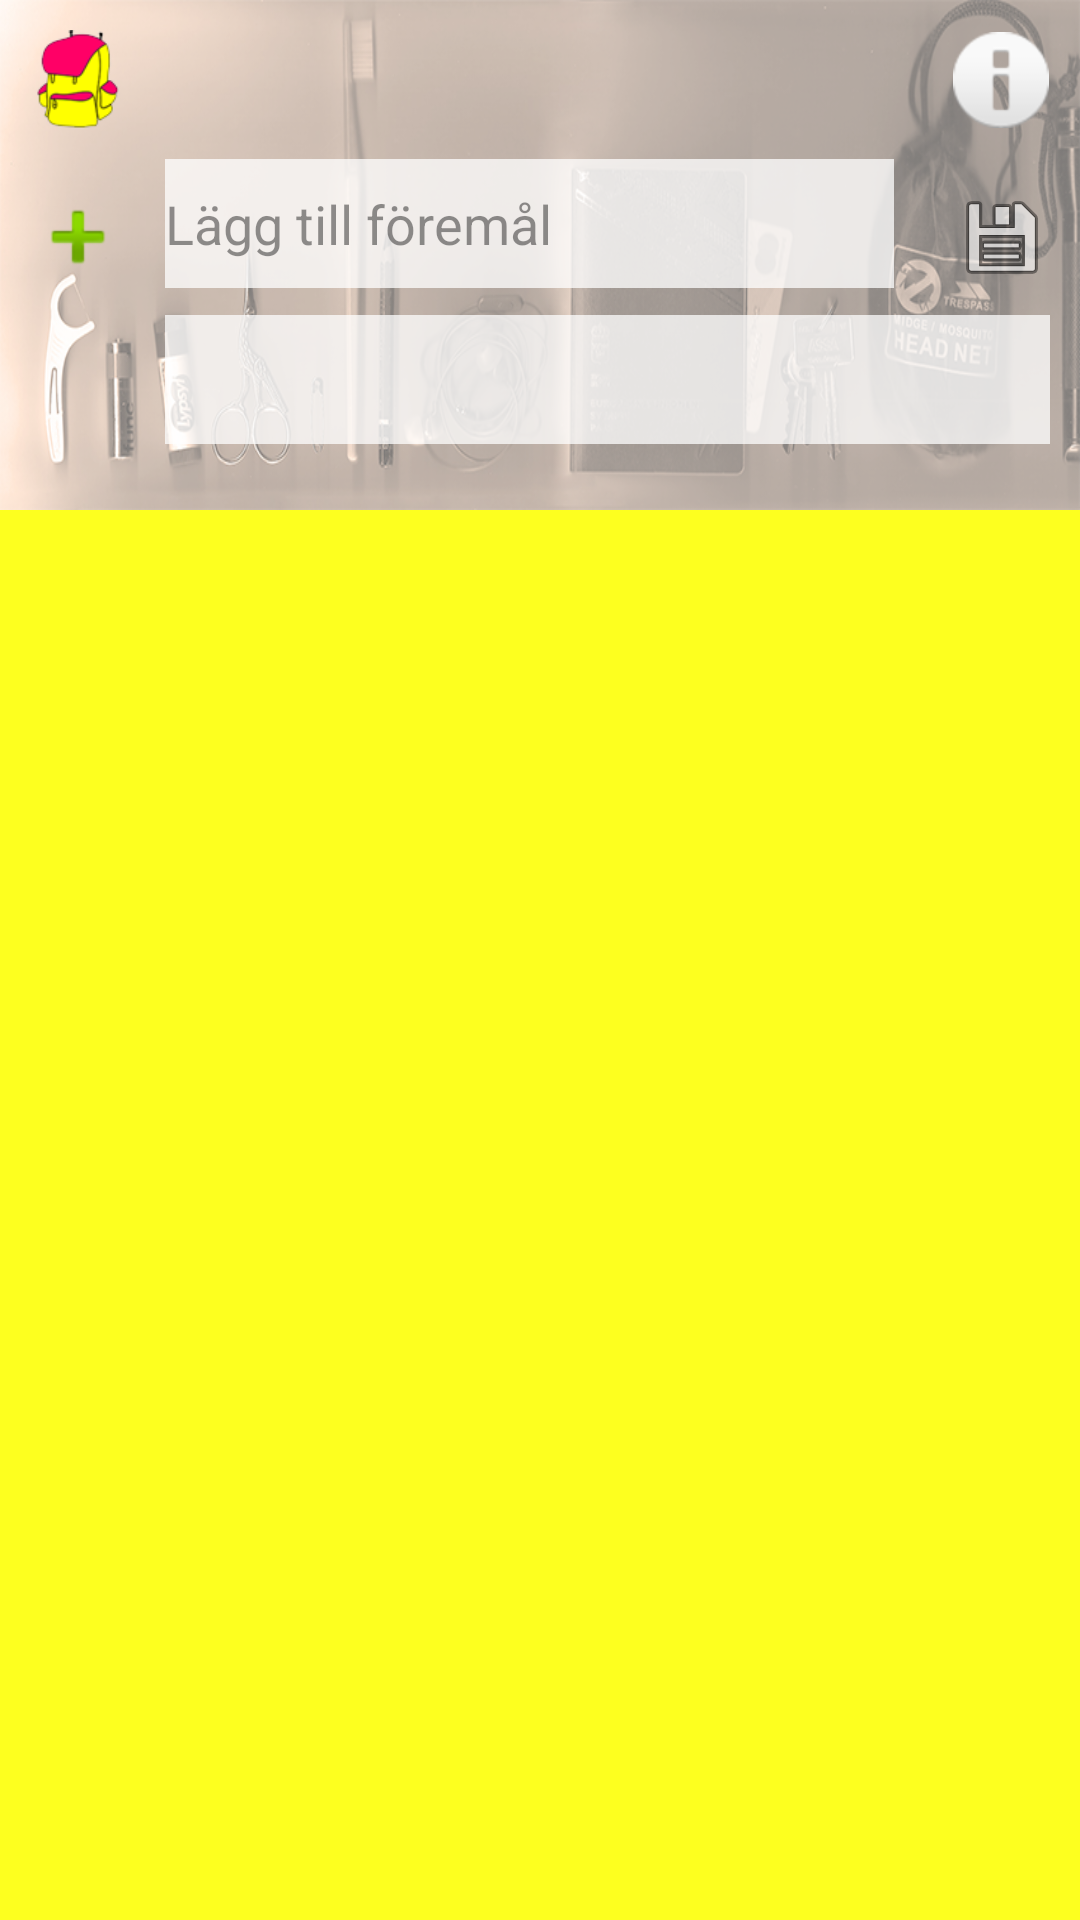

Icons on this 1080px×1920px Android screen, each with the point to tap as (x=x, y=y):
add: (x=78, y=237)
info: (x=1000, y=79)
save: (x=1002, y=237)
